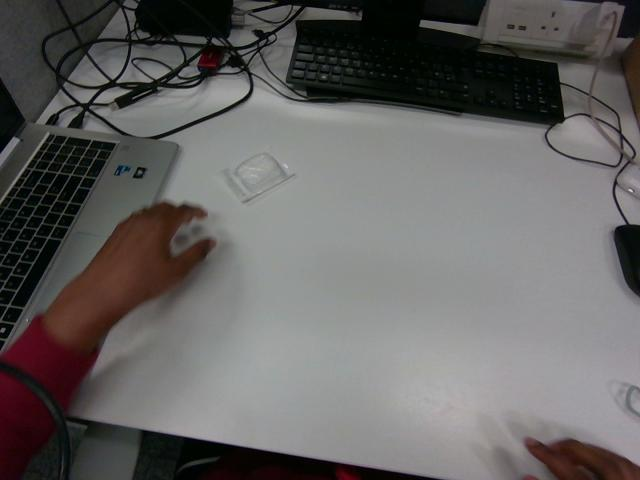gauze: (222, 153, 293, 202), (170, 218, 213, 256)
